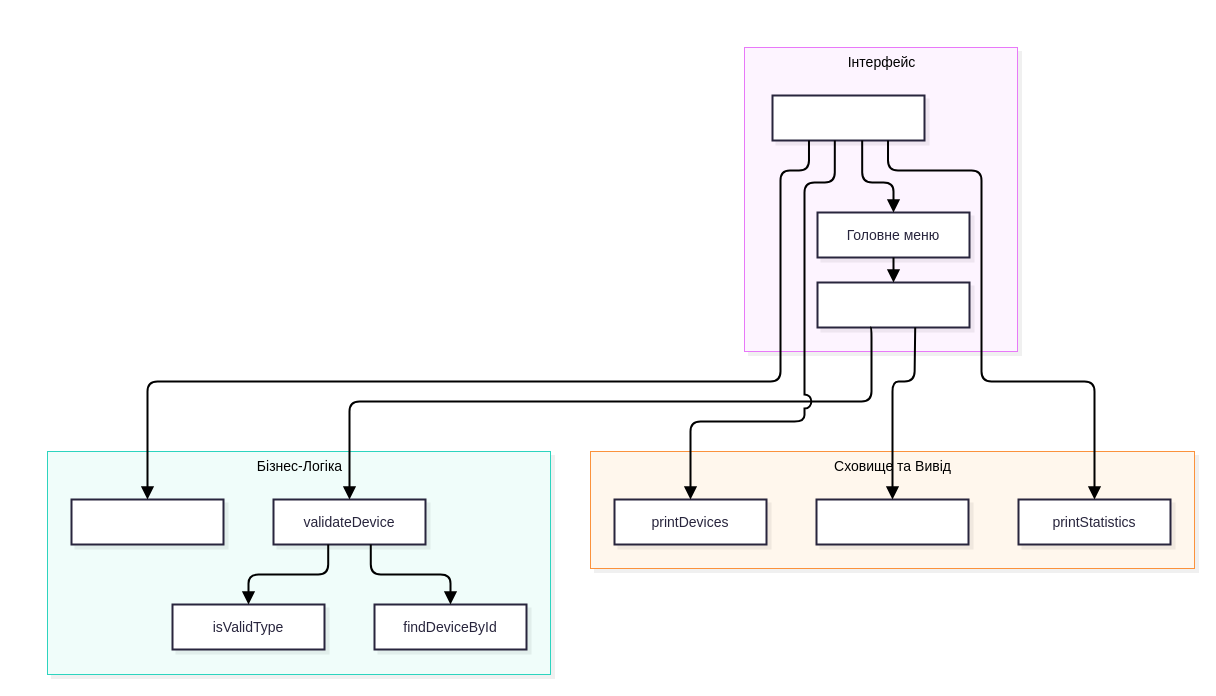
Image size: 1216x696. Some labels were removed from this diagram. Each missing label, with the centre of its shape:
"changeStatus" goes at (149,523).
"Device devices" goes at (894,523).
"main loop" goes at (850,119).
"readDevice" goes at (895,306).
